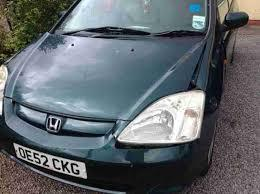front-bumper-dent: (88, 148, 172, 193)
